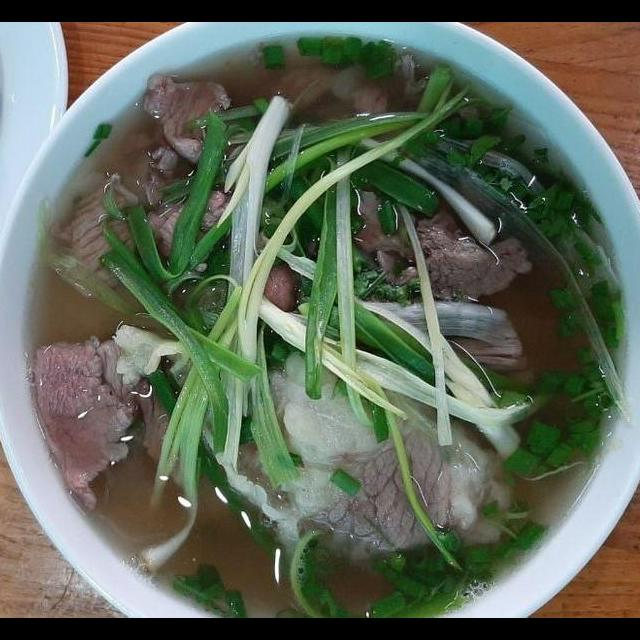thit bo: (202, 341, 520, 559), (347, 183, 536, 325), (91, 317, 208, 508), (22, 332, 140, 516), (59, 169, 152, 294), (141, 63, 233, 169)
